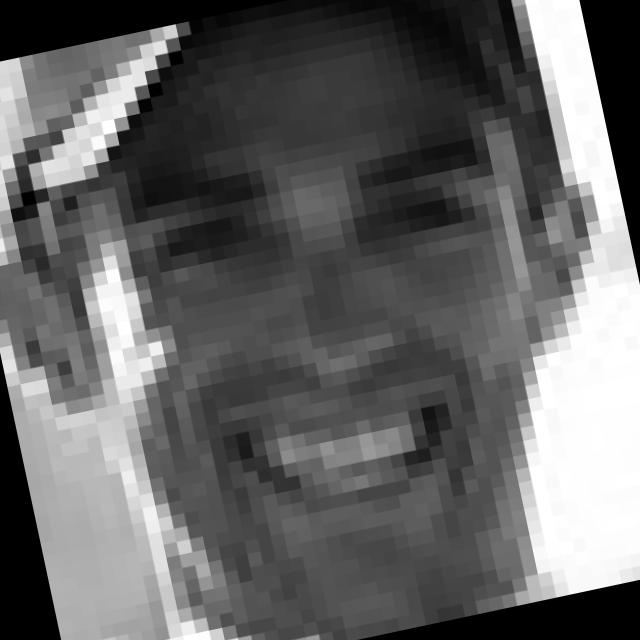happy: (119, 110, 565, 583)
